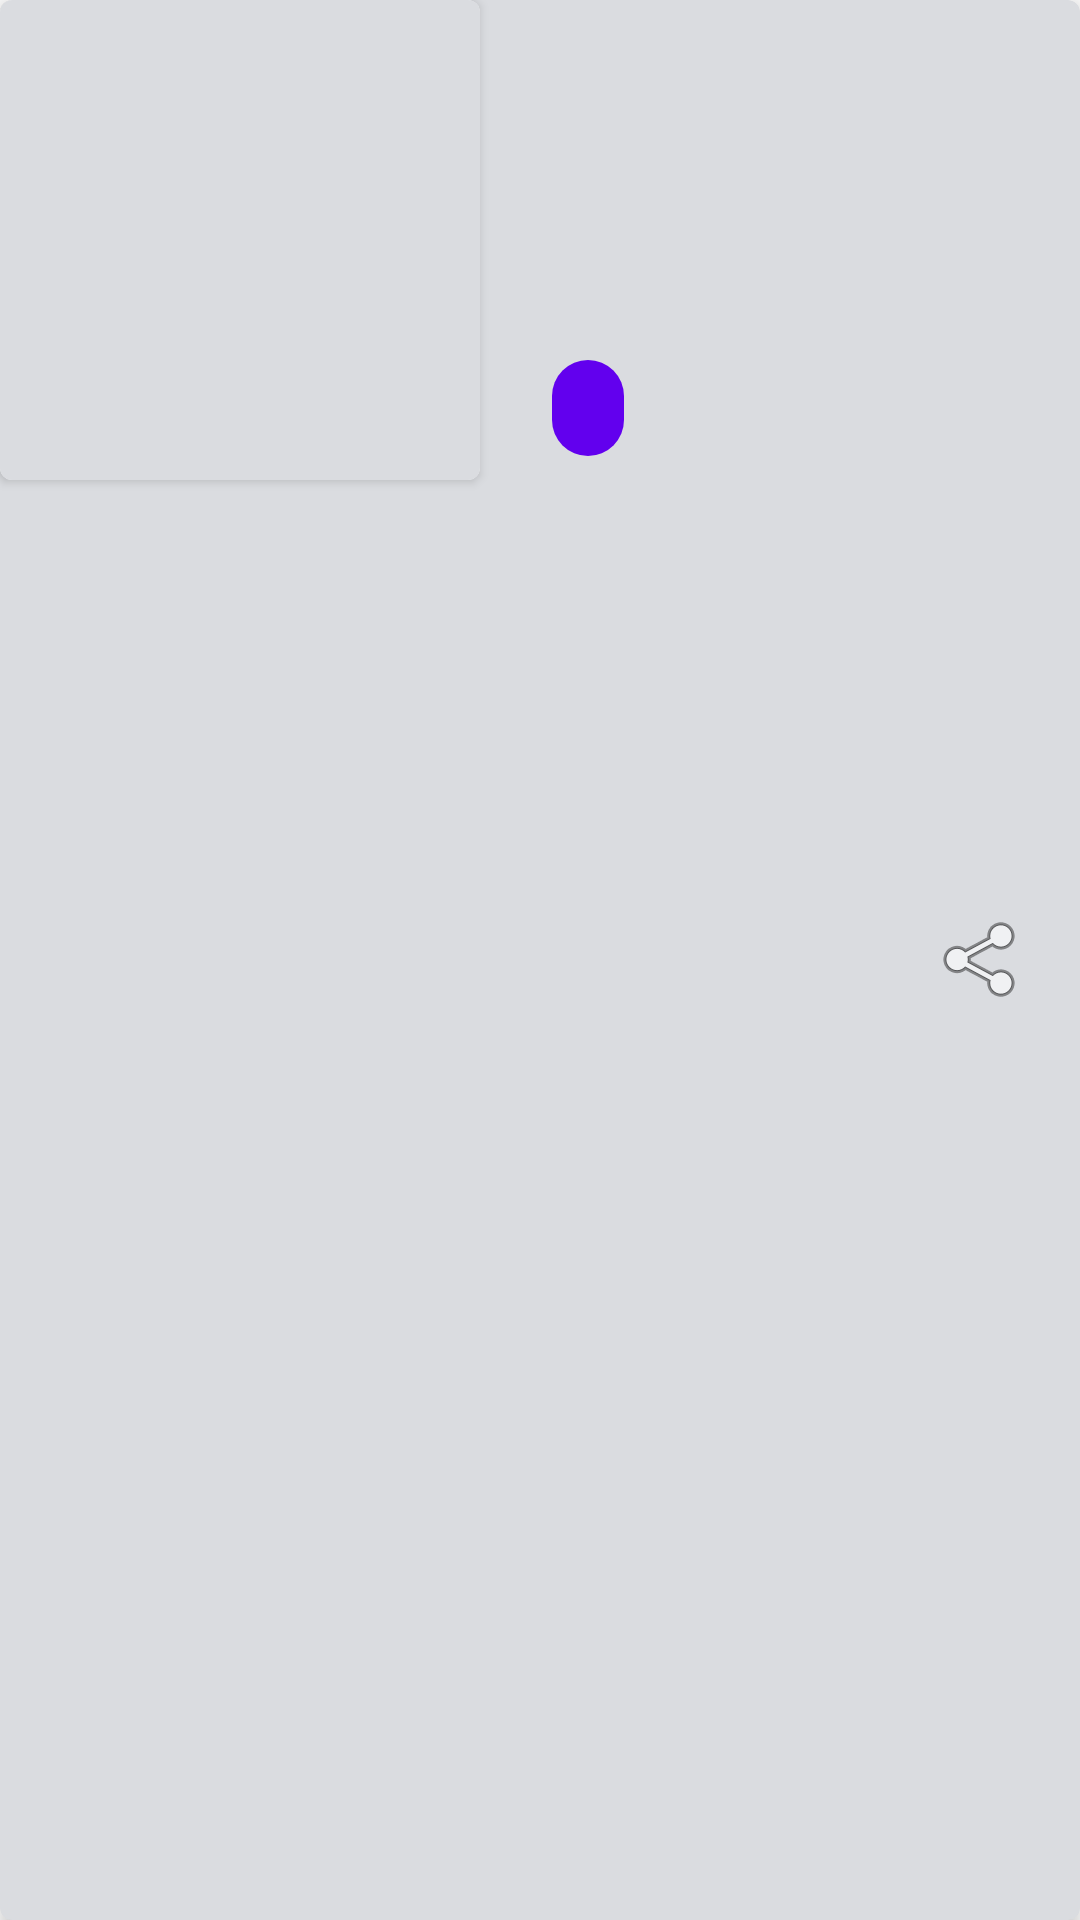

Where icons sit on this 1080*1920 app screen, as [x1, y1, x2, y2]:
share: [943, 922, 1015, 997]
